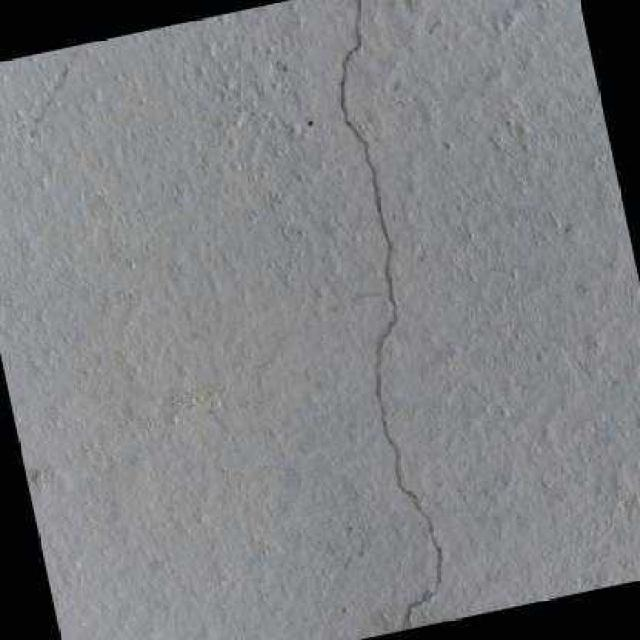D00: (339, 0, 441, 630)
